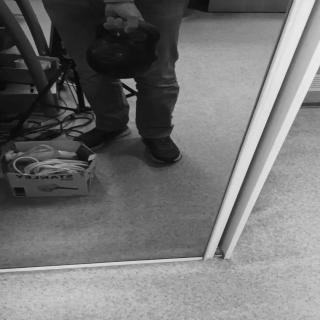girya: (86, 17, 160, 78)
